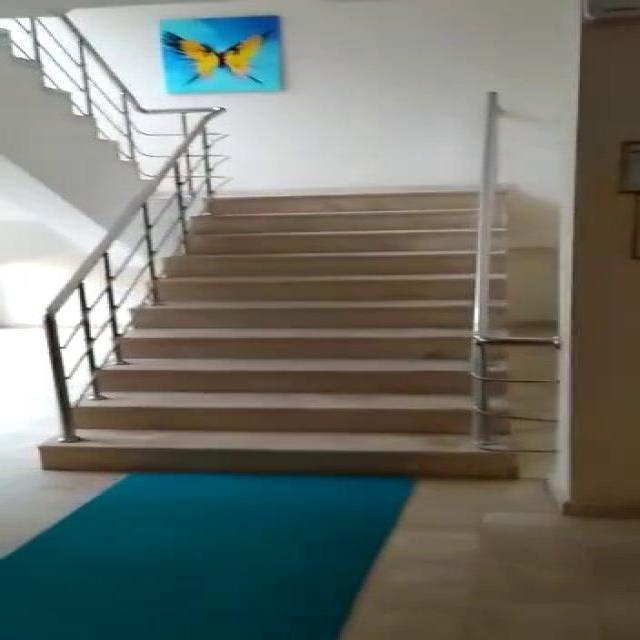stairs: (40, 185, 524, 477)
